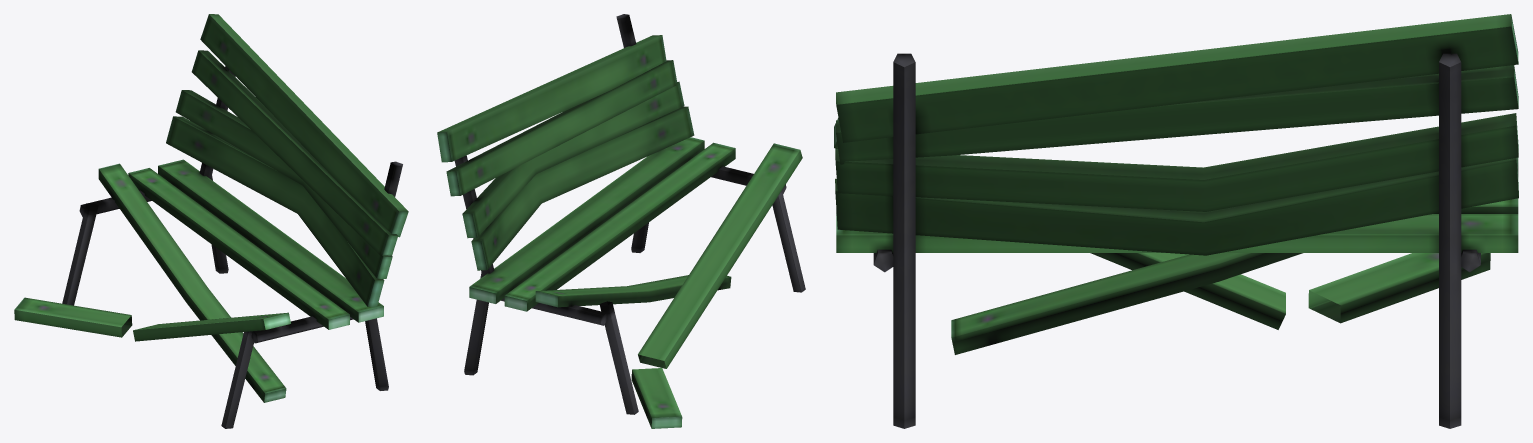
Rendered from WachtBankje_Step2.FBX.
The picture shows the model from 3 angles, left to right: view 1: azimuth 30°, elevation 25°; view 2: azimuth 150°, elevation 25°; view 3: azimuth 270°, elevation 25°; orthographic projection. The views are drawn at different scales.
Parts seen in each view (by area): view 1: Bankje; view 2: Bankje; view 3: Bankje.
Part boxes in pixels (x1,y1,x2,y2): Bankje: (14,14,408,428); Bankje: (437,14,805,428); Bankje: (834,14,1518,428).
Size of the model in its own units: 116 by 118 by 176.
1 material, 1 textured.
